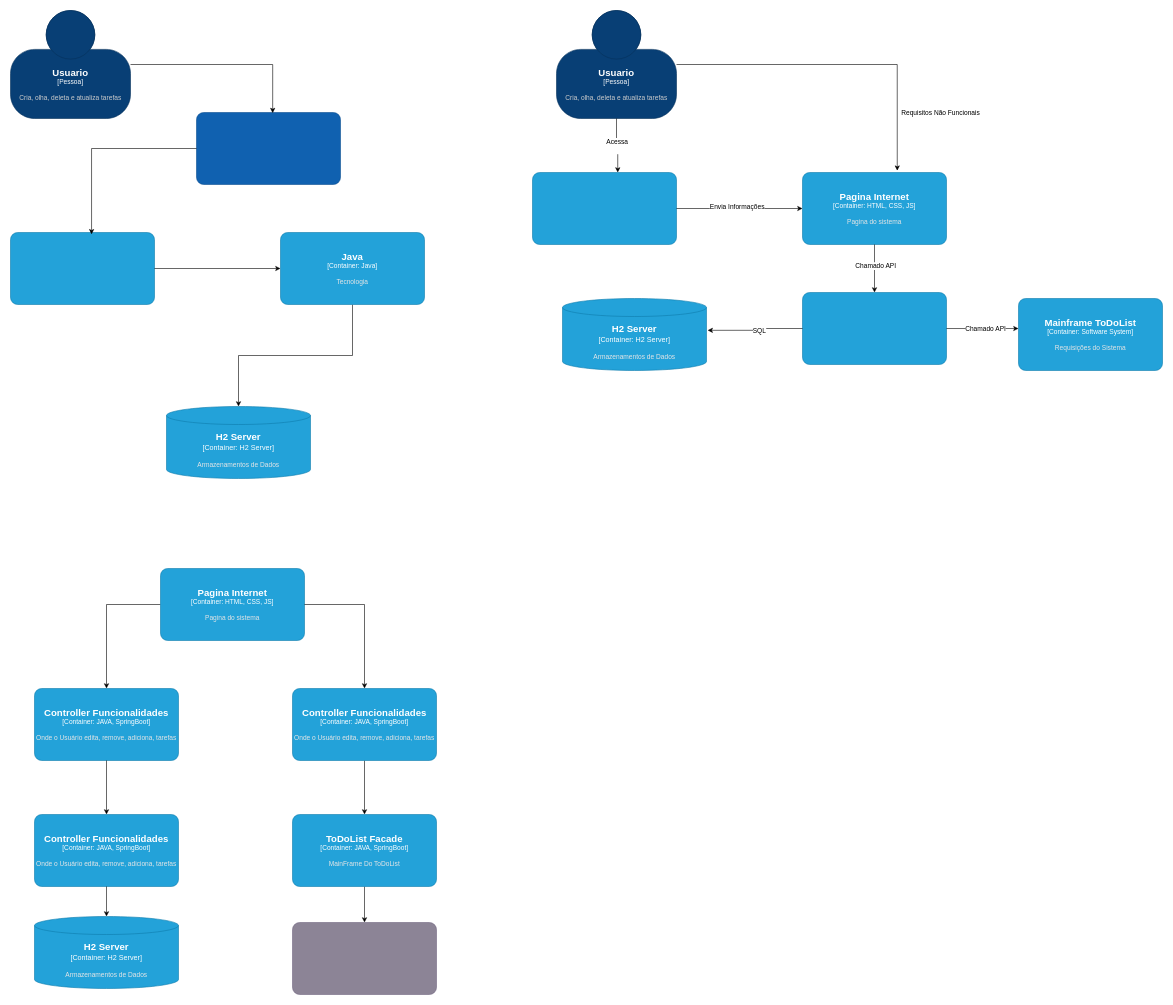
Image size: 1173x1005. Some labels were removed from this diagram. The shapes that lost their labels are listed below. From the top down, each one's box as (x1, y1, x2, y2) in pixels, then its label:
(196, 112, 340, 184): To do List [Software System] Sistema de Listar Tarefas
(532, 172, 676, 244): Aplicação Web [Container: SpringBoot] Gerenciar Tarefas
(10, 232, 154, 304): Spring Boot [Container: SpringBoot] Tecnologia
(802, 292, 946, 364): API [Container: SpringBoot, Java] Funcionalidades do Sistema
(292, 922, 436, 994): MainFrame ToDoList [Software System] Requisições do Sistema
